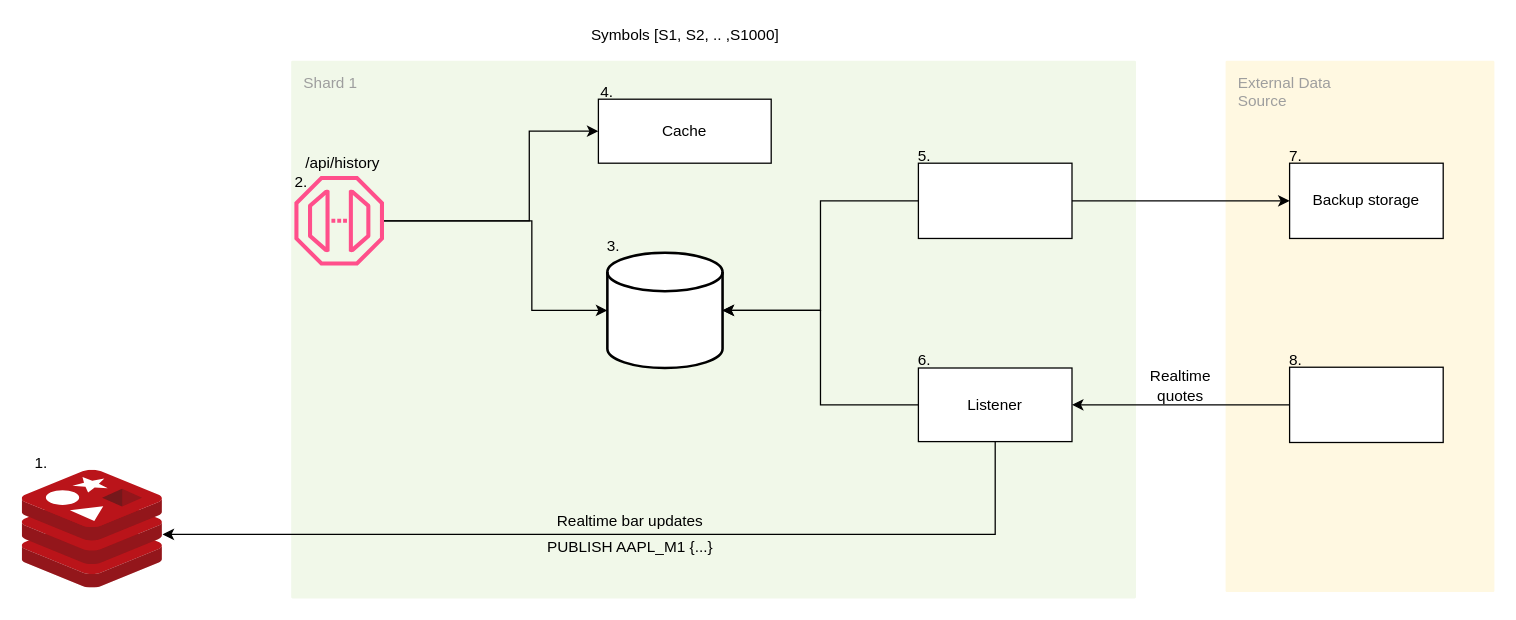
Some shapes in this 1516 by 620 pixel diagram are drawn without their labels. The shapes that lost their labels are listed below. From the top down, each one's centre as x and y in pixels, then its label:
At pixel 994 200: "Synchronization Service".
At pixel 664 310: "Storage".
At pixel 1365 404: "Feed server".
